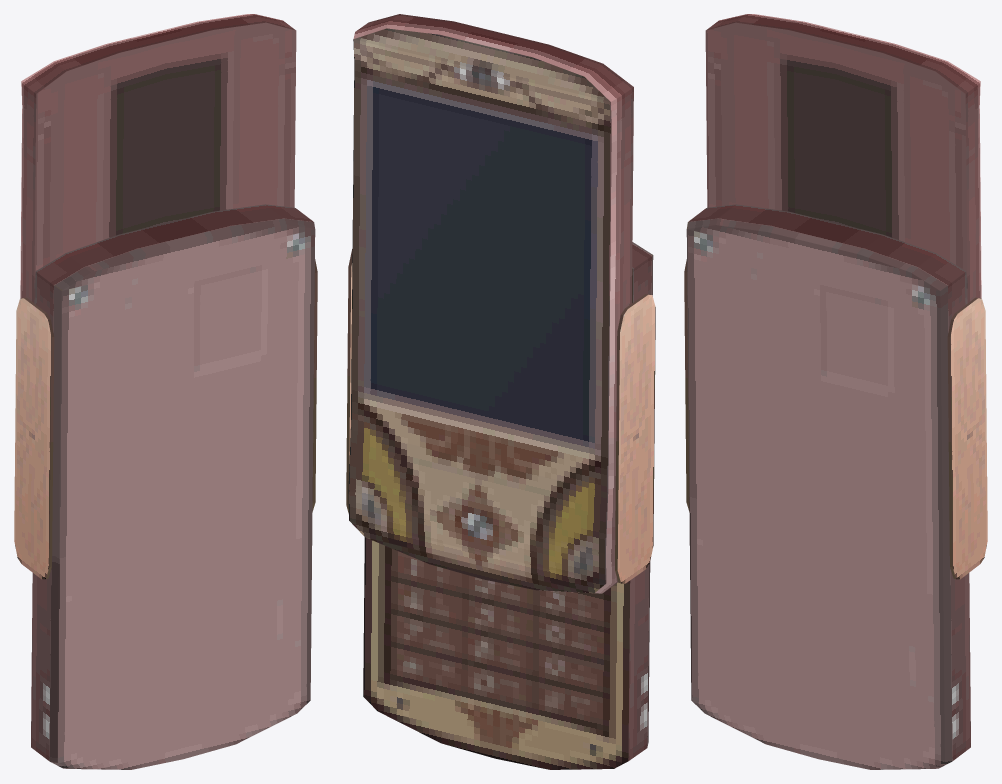
Rendered from ps2_save-icons_shoukanshoujo.glb.
3 views of the same model, side by side, from view 1: azimuth 30°, elevation 25°; view 2: azimuth 150°, elevation 25°; view 3: azimuth 330°, elevation 25° (orthographic).
Visible parts, largest first — view 1: shoukan.ico; view 2: shoukan.ico; view 3: shoukan.ico.
Boxes of the visible parts, box(x1,y1,x2,y2) form: shoukan.ico: box(14, 14, 317, 769); shoukan.ico: box(346, 14, 655, 769); shoukan.ico: box(684, 14, 987, 769).
Bounding box in the file's own units: 1.9 × 4.82 × 0.5676.
Materials: 1 (1 with a texture image).
